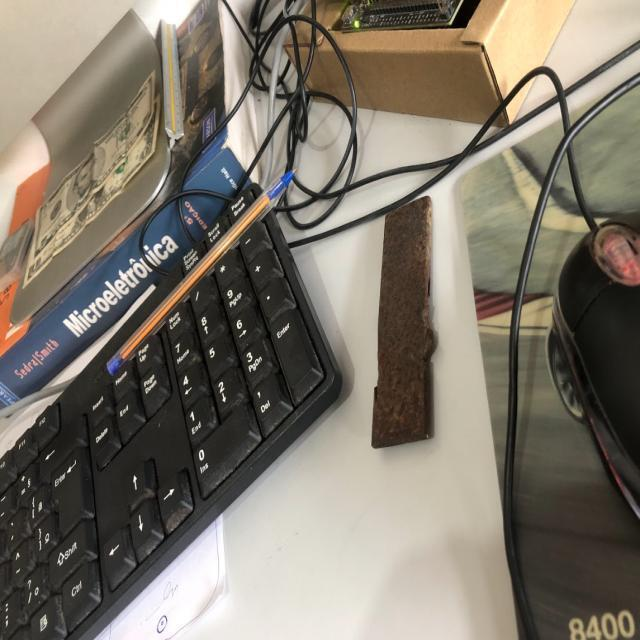Corrosion: (370, 194, 435, 448)
